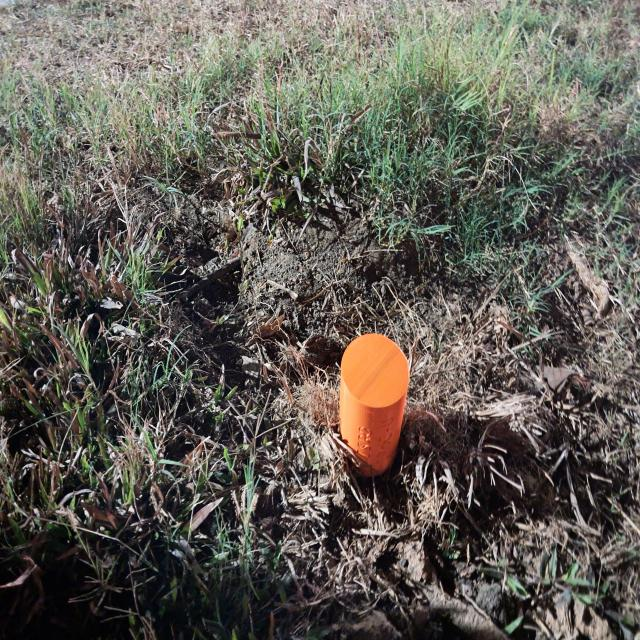Cylinder: (338, 332, 409, 477)
